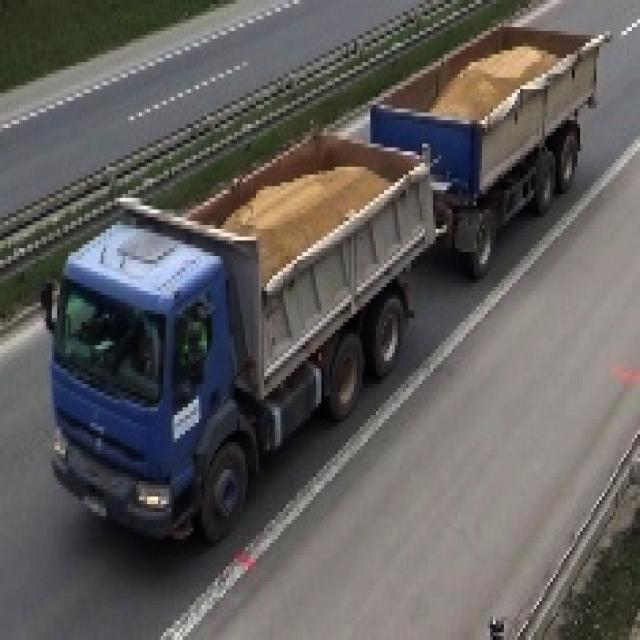truck: (39, 1, 600, 548)
